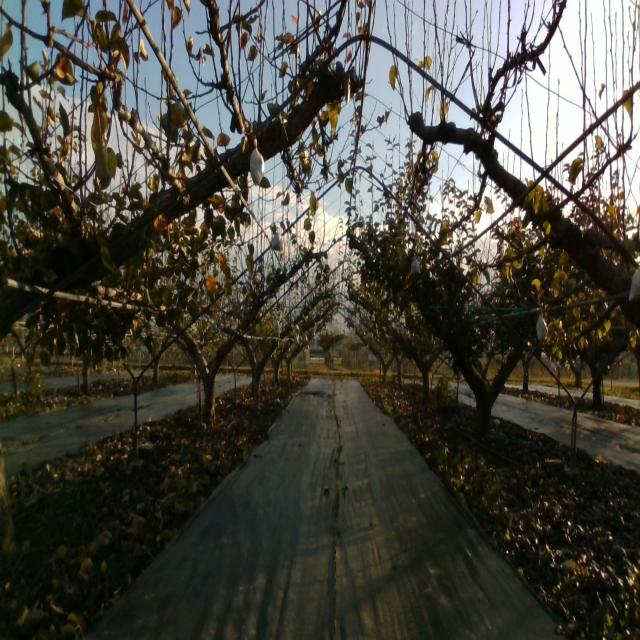pearbags: (250, 140, 266, 186), (536, 314, 548, 341), (271, 232, 285, 252), (410, 256, 421, 276)
